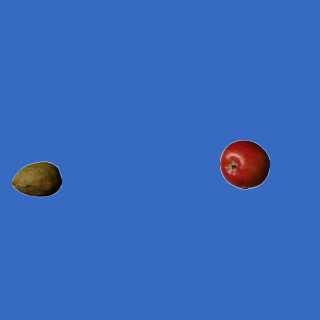Apple Braeburn: (219, 139, 269, 189)
Papaya: (11, 154, 61, 204)
